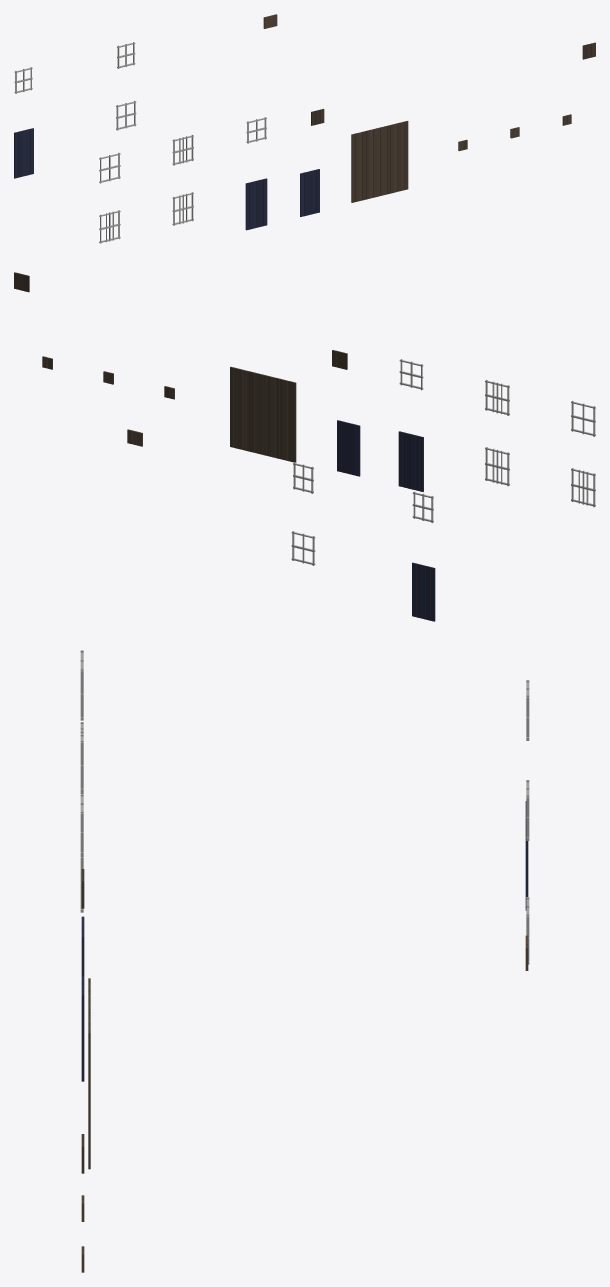
File: SM_Bld_122_Wood.glb
3 views of the same model, one above another, from view 1: azimuth 30°, elevation 25°; view 2: azimuth 150°, elevation 25°; view 3: azimuth 270°, elevation 25° (orthographic). The views are drawn at different scales.
Visible parts, largest first — view 1: SM_Bld_122_Wood; view 2: SM_Bld_122_Wood; view 3: SM_Bld_122_Wood.
Boxes of the visible parts, x1=… form: SM_Bld_122_Wood: x1=14, y1=14, x2=595, y2=243; SM_Bld_122_Wood: x1=14, y1=272, x2=595, y2=621; SM_Bld_122_Wood: x1=80, y1=650, x2=529, y2=1272.
Bounding box in the file's own units: 22.88 × 4.77 × 8.96.
